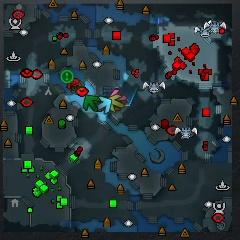Other: (60, 70, 74, 83)
x1: (111, 89, 127, 100)
x2: (109, 95, 124, 113)
x3: (97, 96, 111, 113)
x4: (83, 95, 100, 112)
